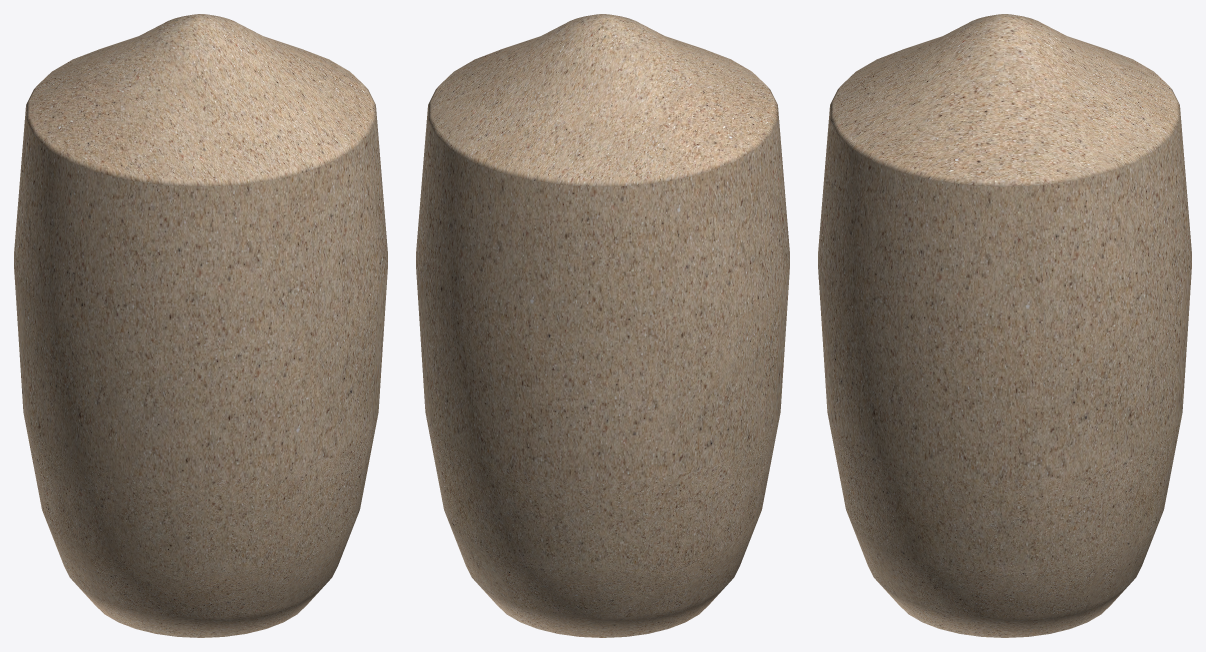
The model's file is Temple_Sand_Clock_Sand.dae.
3 renders of one model, left to right at view 1: azimuth 30°, elevation 25°; view 2: azimuth 150°, elevation 25°; view 3: azimuth 270°, elevation 25°, orthographic.
Parts seen in each view (by area): view 1: Sand_Clock_Sand; view 2: Sand_Clock_Sand; view 3: Sand_Clock_Sand.
Boxes of the visible parts, x1,y1,x2,y2 form: Sand_Clock_Sand: [14, 14, 387, 637]; Sand_Clock_Sand: [416, 14, 789, 637]; Sand_Clock_Sand: [818, 14, 1191, 637].
Bounding box in the file's own units: 0.8349 × 1.4 × 0.8303.
